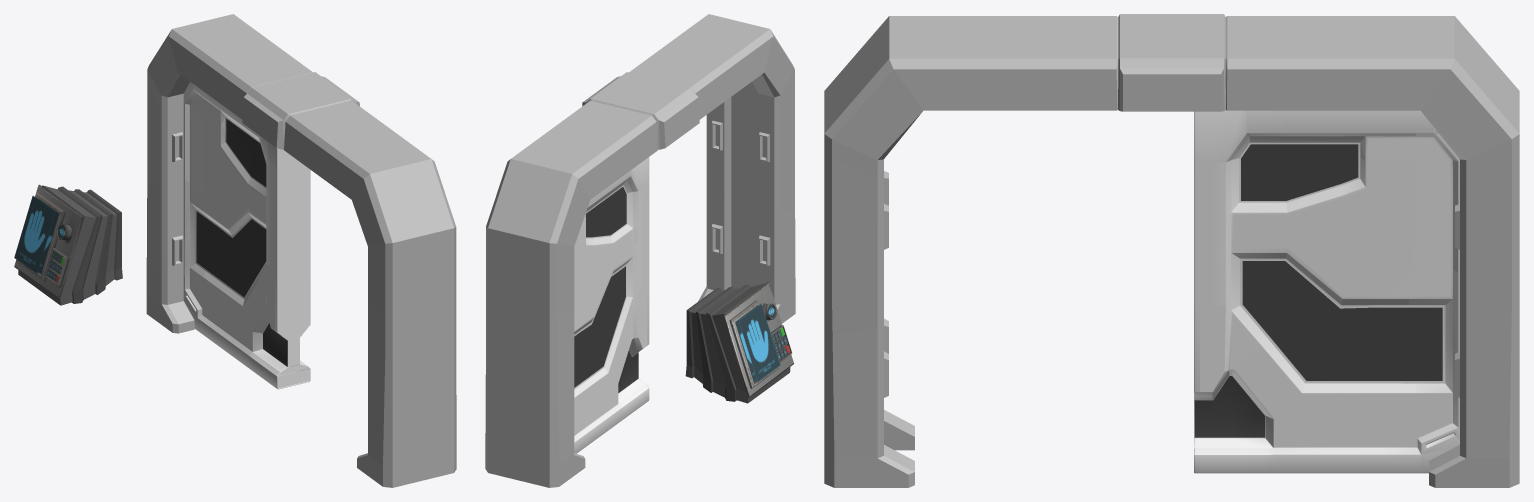
Rendered from door.fbx.
3 renders of one model, left to right at view 1: azimuth 30°, elevation 25°; view 2: azimuth 150°, elevation 25°; view 3: azimuth 270°, elevation 25°, orthographic. The views are drawn at different scales.
Visible parts, largest first — view 1: LOW_Frame_Preoritet, Doors Merged.001, Cube, Cube.002; view 2: LOW_Frame_Preoritet, Doors Merged.001, Cube, Cube.002; view 3: LOW_Frame_Preoritet, Doors Merged.001.
Boxes of the visible parts, x1=… form: LOW_Frame_Preoritet: x1=146, y1=14, x2=456, y2=487; Doors Merged.001: x1=183, y1=82, x2=310, y2=389; Cube: x1=18, y1=185, x2=122, y2=305; Cube.002: x1=14, y1=184, x2=84, y2=298; LOW_Frame_Preoritet: x1=485, y1=14, x2=795, y2=487; Doors Merged.001: x1=574, y1=157, x2=649, y2=453; Cube: x1=685, y1=283, x2=790, y2=403; Cube.002: x1=723, y1=282, x2=793, y2=397; LOW_Frame_Preoritet: x1=824, y1=14, x2=1519, y2=487; Doors Merged.001: x1=1194, y1=110, x2=1459, y2=473.
Bounding box in the file's own units: 1904 × 2218 × 3282.
